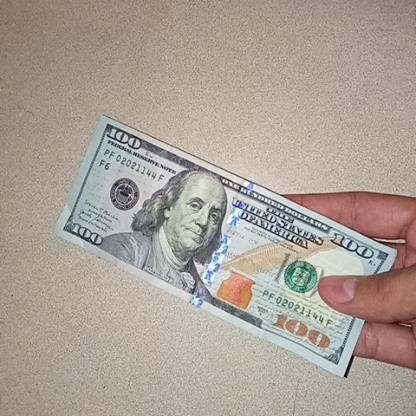one_hundred-front: (49, 115, 398, 380)
